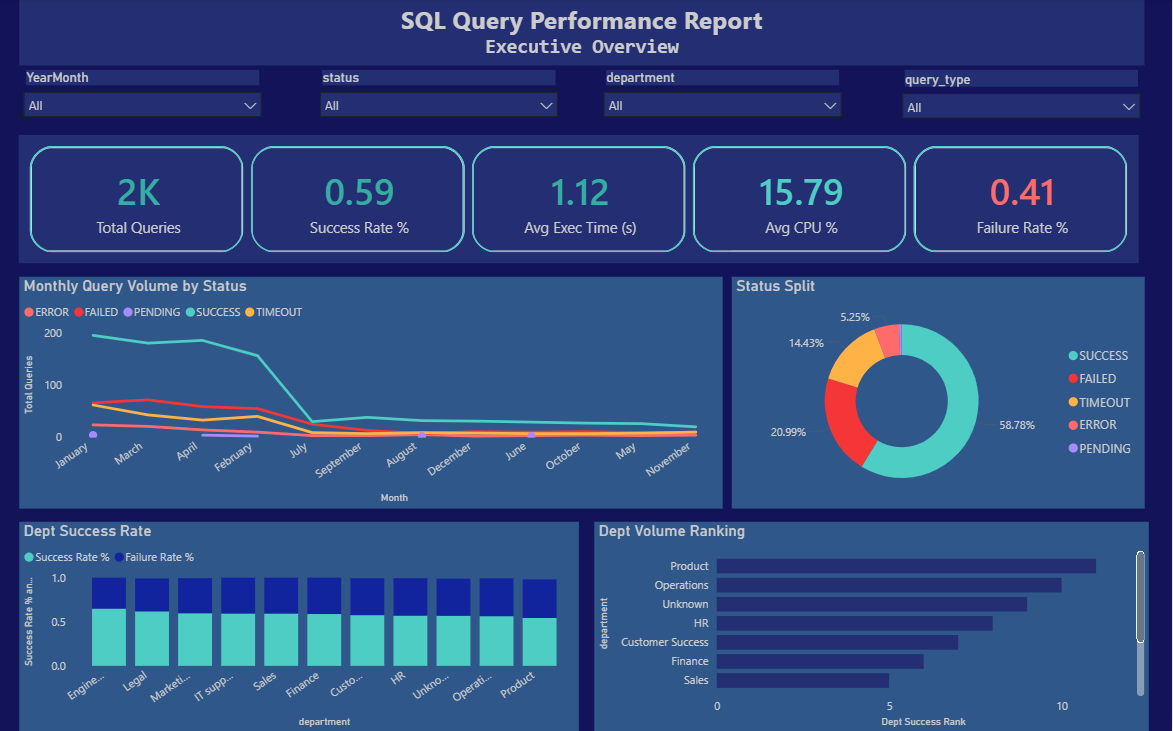

Layout of this report page (visuals, bound fields, positions):
{"tool":"powerbi","page":{"name":"Executive overview","canvas":[1280,800],"ordinal":0},"visuals":[{"type":"slicer","fields":{"Values":["Date.YearMonth"]},"box":[17.8,74.1,279.9,59],"z":0},{"type":"textbox","box":[23.2,0,1227,73.6],"z":1000},{"type":"slicer","fields":{"Values":["logs.status"]},"box":[340.3,74.1,279.9,59],"z":2000},{"type":"slicer","fields":{"Values":["users.department"]},"box":[650.4,74.1,279.9,59],"z":3000},{"type":"slicer","fields":{"Values":["logs.query_type"]},"box":[975.6,74.1,279.9,59],"z":4000},{"type":"cardVisual","fields":{"Data":["Measure (2).Total Queries","Measure (2).Success Rate %","Measure (2).Avg Exec Time (s)","Measure (2).Avg CPU %","Measure (2).Failure Rate %"]},"box":[17.8,144.1,1232.3,150.9],"z":5000},{"type":"donutChart","title":"Status Split","fields":{"Category":["logs.status"],"Y":["Measure (2).Total Queries"]},"box":[800,304.6,450.1,252.5],"z":6000},{"type":"columnChart","title":"Dept Success Rate","fields":{"Category":["users.department"],"Y":["Measure (2).Success Rate %","Measure (2).Failure Rate %"]},"box":[23.3,570.8,610.6,229.2],"z":7000},{"type":"clusteredBarChart","title":"Dept Volume Ranking","fields":{"Category":["users.department"],"Y":["Measure (2).Dept Success Rank"]},"box":[650.4,570.8,605.1,229.2],"z":8000},{"type":"lineChart","title":"Monthly Query Volume by Status","fields":{"Series":["logs.status"],"Category":["Date.Month"],"Y":["Measure (2).Total Queries"]},"box":[23.3,304.6,767.1,252.5],"z":9000}]}

Visuals, with their boxes in screenshot pixels (x1, y1, x2, y2), scaled from the page's 1280x800 canvas onto the 1173x731 screenshot:
slicer - Date.YearMonth: (x1=16, y1=68, x2=273, y2=122)
textbox: (x1=21, y1=0, x2=1146, y2=67)
slicer - logs.status: (x1=312, y1=68, x2=568, y2=122)
slicer - users.department: (x1=596, y1=68, x2=853, y2=122)
slicer - logs.query_type: (x1=894, y1=68, x2=1151, y2=122)
cardVisual - Measure (2).Total Queries x Measure (2).Success Rate %: (x1=16, y1=132, x2=1146, y2=270)
"Status Split" donutChart: (x1=733, y1=278, x2=1146, y2=509)
"Dept Success Rate" columnChart: (x1=21, y1=522, x2=581, y2=730)
"Dept Volume Ranking" clusteredBarChart: (x1=596, y1=522, x2=1151, y2=730)
"Monthly Query Volume by Status" lineChart: (x1=21, y1=278, x2=724, y2=509)
